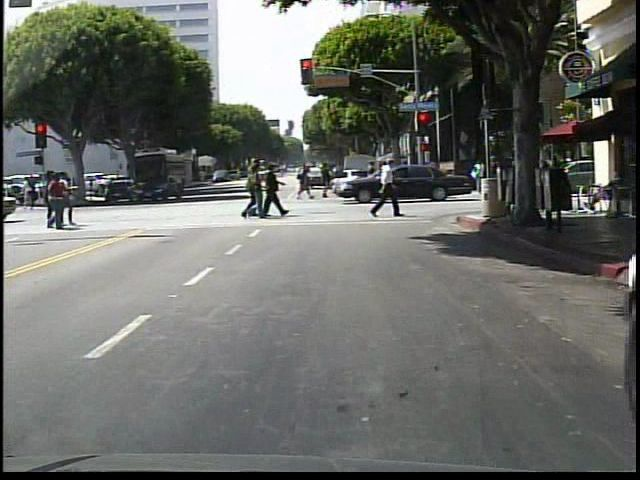person: (366, 155, 409, 224)
